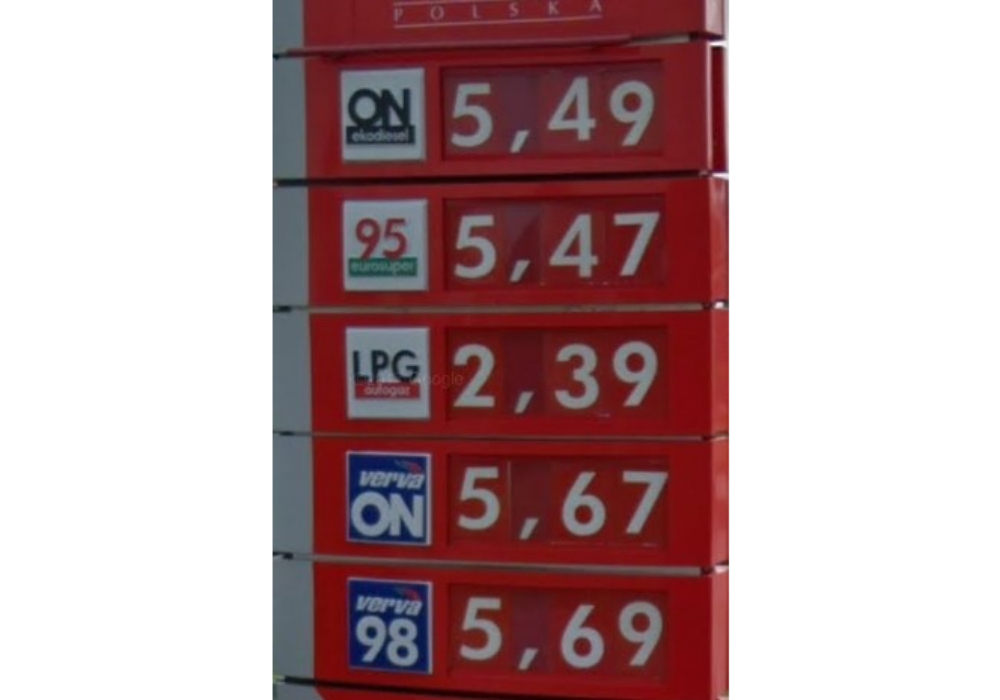LPG: (342, 321, 433, 421)
ON: (342, 445, 436, 549), (336, 65, 429, 165)
PB95: (340, 194, 430, 298)
PB98: (343, 570, 434, 675)
